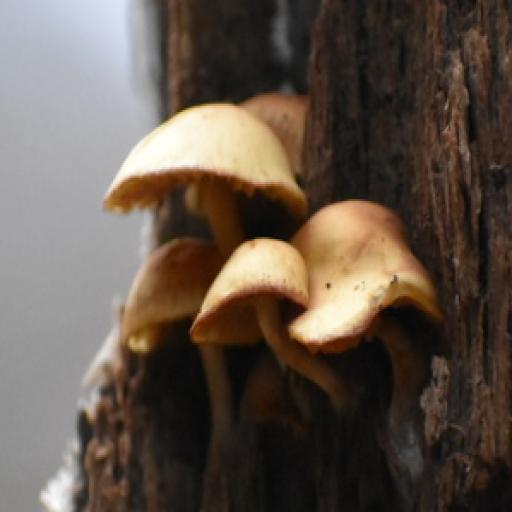mushroom: (98, 68, 456, 416)
